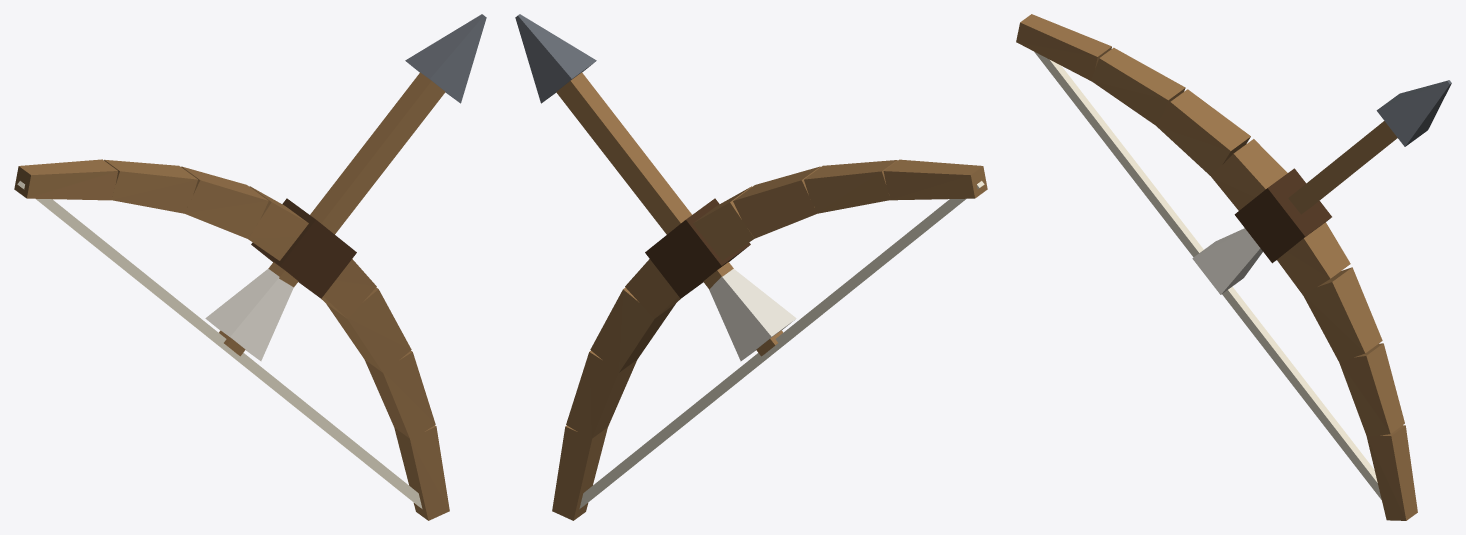
The model's file is bow.obj.
3 views of the same model, side by side, from view 1: azimuth 30°, elevation 25°; view 2: azimuth 150°, elevation 25°; view 3: azimuth 330°, elevation 25° (orthographic). The views are drawn at different scales.
Visible parts, largest first — view 1: Bow, Arrow, Bow.String, Arrow.Fletch, Bow.Grip, Arrow.Head; view 2: Bow, Arrow, Bow.String, Arrow.Fletch, Bow.Grip, Arrow.Head; view 3: Bow, Bow.String, Bow.Grip, Arrow, Arrow.Head, Arrow.Fletch.
Part boxes in pixels (x1,y1,x2,y2): Bow: (14, 159, 449, 520); Arrow: (219, 72, 445, 356); Bow.String: (17, 181, 422, 508); Arrow.Fletch: (205, 268, 293, 361); Bow.Grip: (251, 198, 356, 298); Arrow.Head: (405, 14, 486, 103); Bow: (552, 159, 987, 520); Arrow: (556, 72, 783, 356); Bow.String: (579, 181, 984, 508); Arrow.Fletch: (709, 268, 796, 361); Bow.Grip: (645, 198, 750, 298); Arrow.Head: (515, 14, 596, 103); Bow: (1016, 14, 1417, 520); Bow.String: (1034, 52, 1381, 499); Bow.Grip: (1234, 168, 1331, 263); Arrow: (1288, 121, 1397, 214); Arrow.Head: (1376, 80, 1451, 146); Arrow.Fletch: (1192, 228, 1262, 294).
Size of the model in its own units: 1.29 by 1.29 by 0.14.
